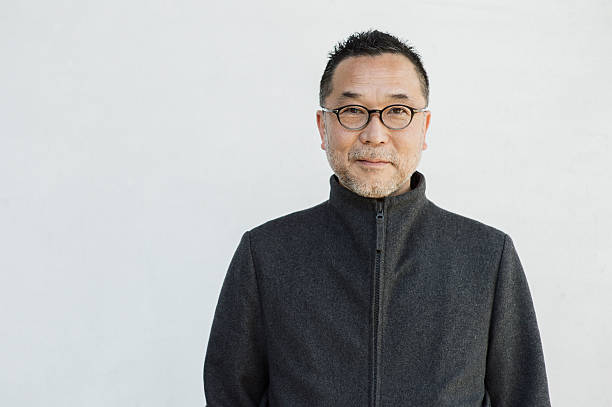person: (316, 27, 432, 200)
